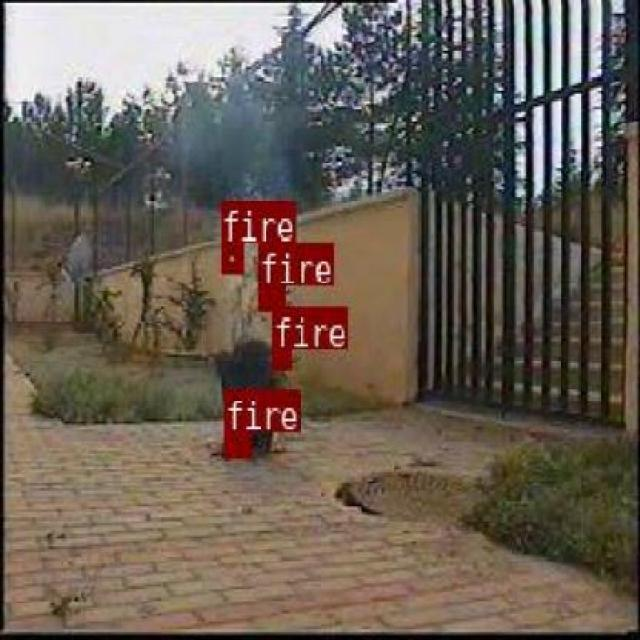Fire: (222, 430, 250, 456), (258, 283, 282, 309), (219, 242, 241, 270), (272, 348, 288, 367)
